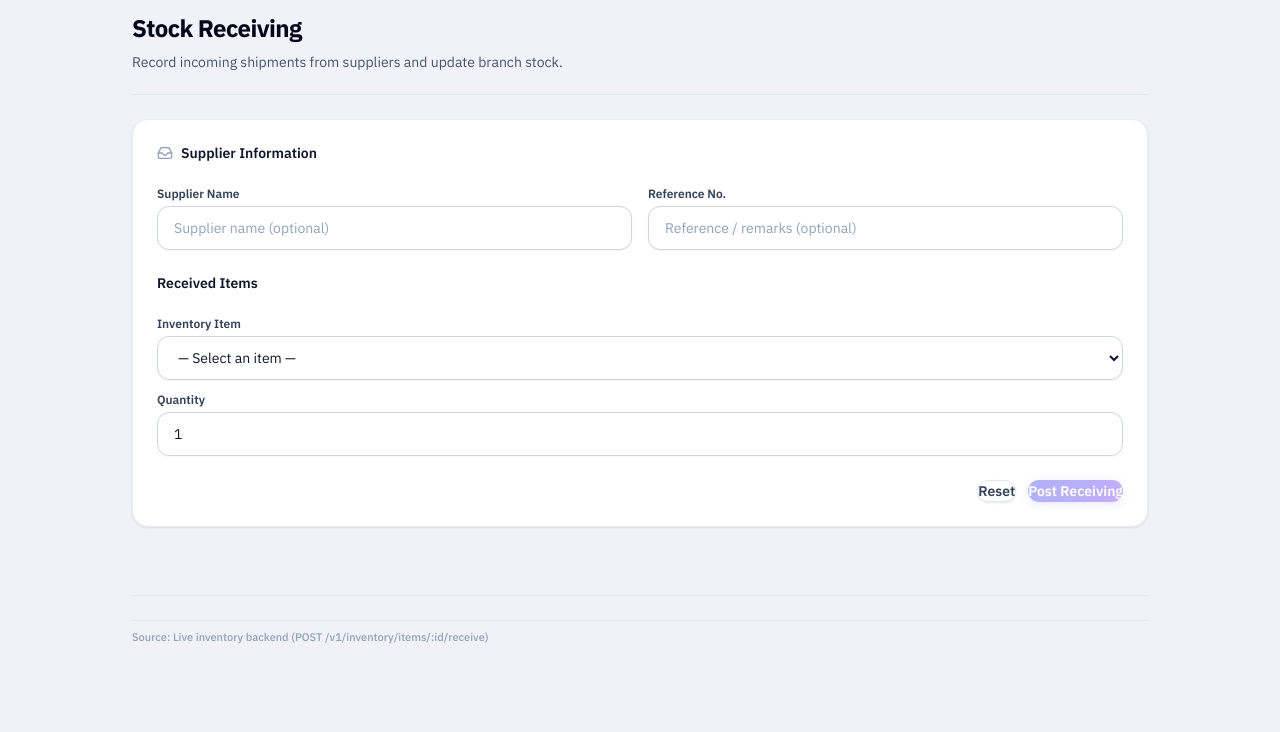
it: StockReceiving — live backend wiring (post-fix) › surfaces a success message after a successful submit and clears form fields
Select "CBC Reagent (SKU-001)" in the dropdown with test id "stock-receiving-item-select" at {"x": 640, "y": 358}, box [157,336,1123,380]
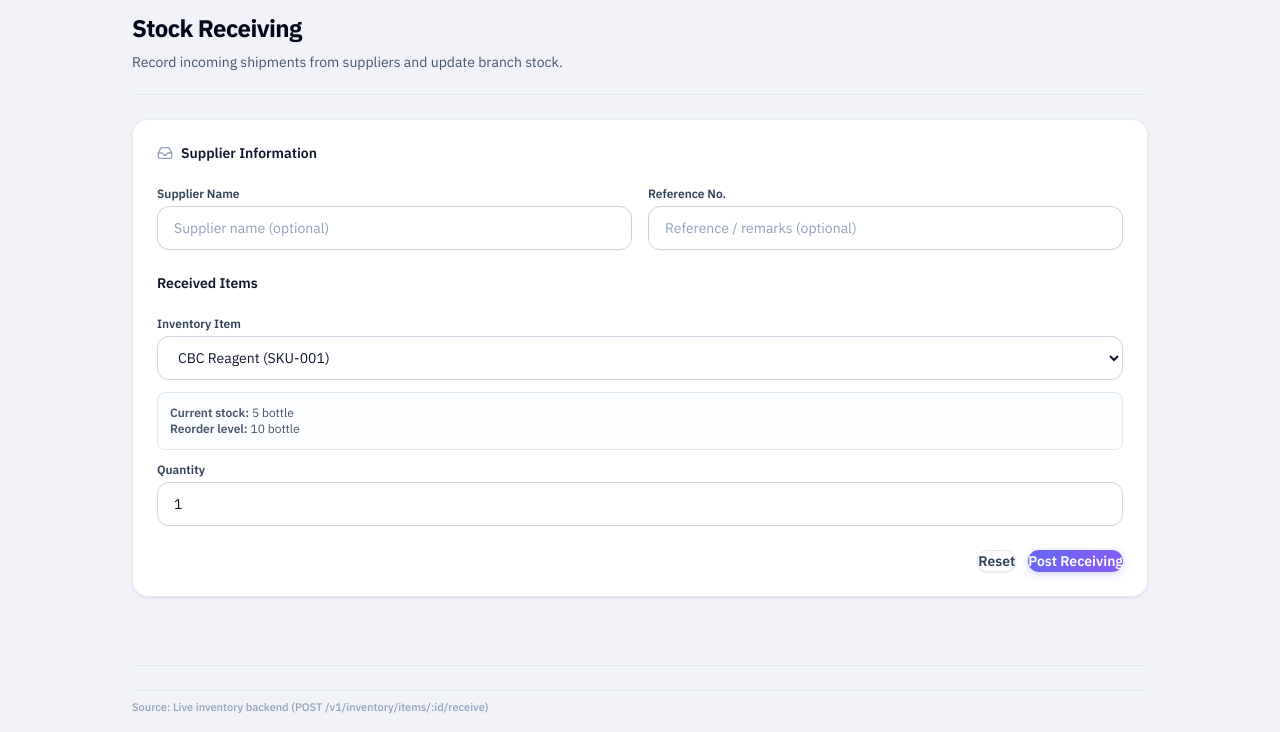
Replace the text in the number field with test id "stock-receiving-quantity" with "3" at {"x": 640, "y": 504}, box [157,482,1123,526]
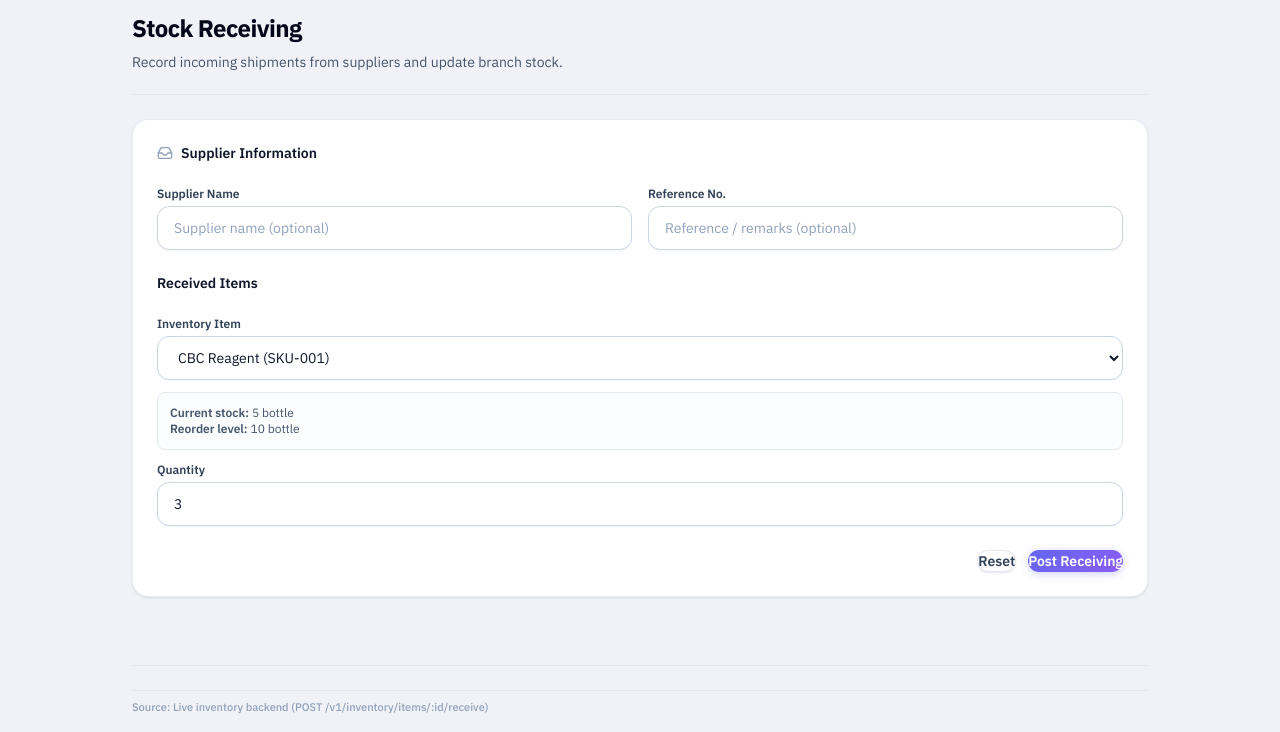
Click the button with test id "stock-receiving-submit" at {"x": 1076, "y": 561}, box [1028,550,1123,572]
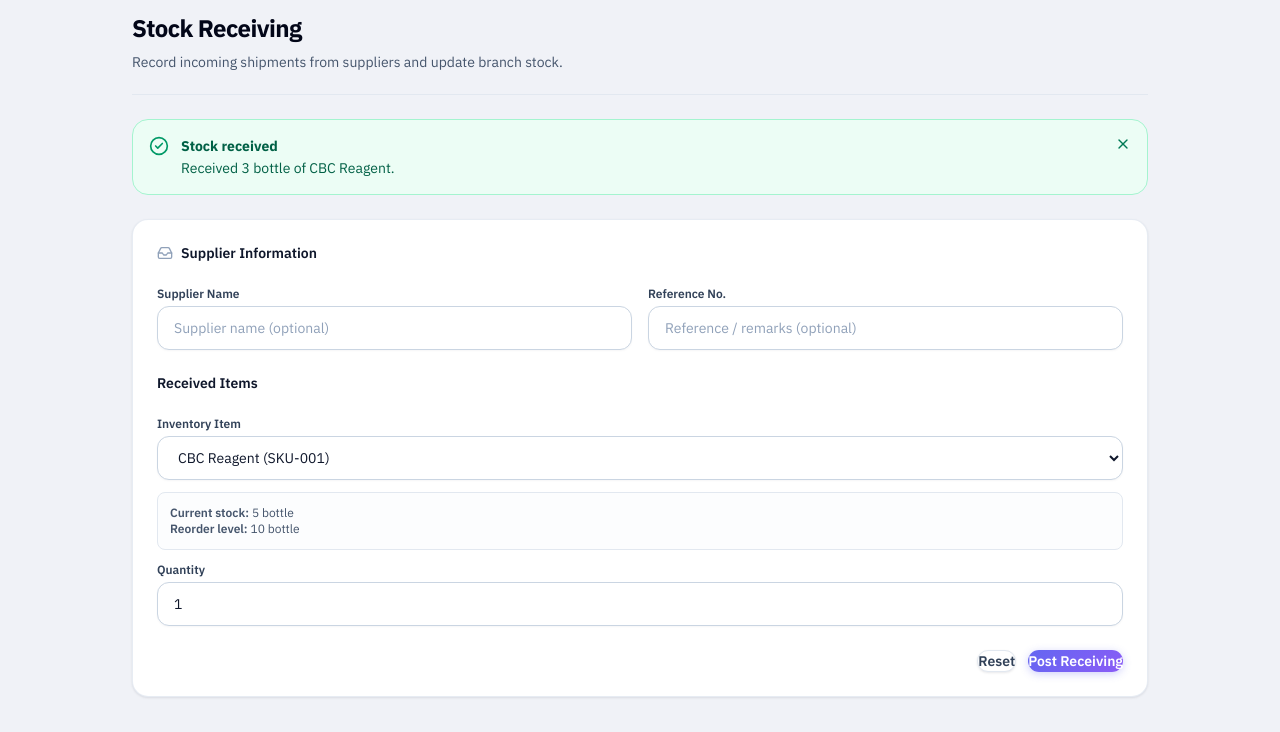
Result: the message "Stock received Received 3 bottle of CBC Reagent." is shown at [132,119,1148,195]
